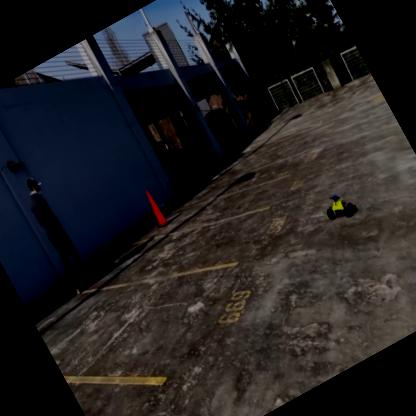cone: (138, 184, 172, 230)
mushr_car: (317, 186, 361, 228)
